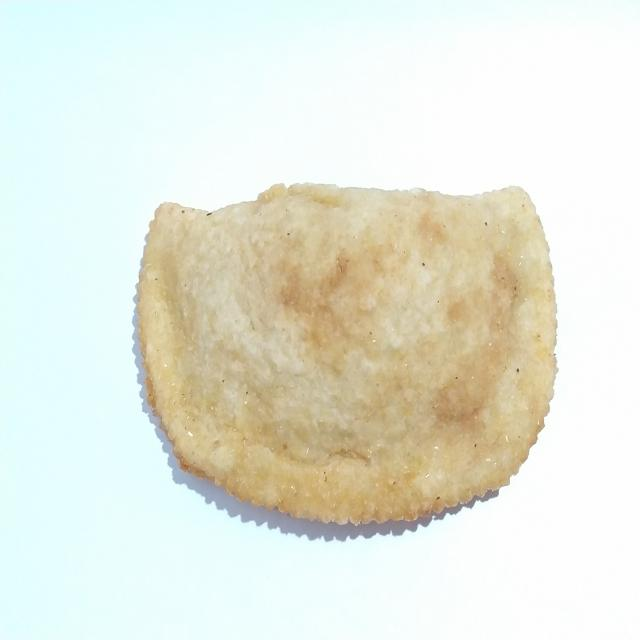Food: (125, 162, 568, 548)
